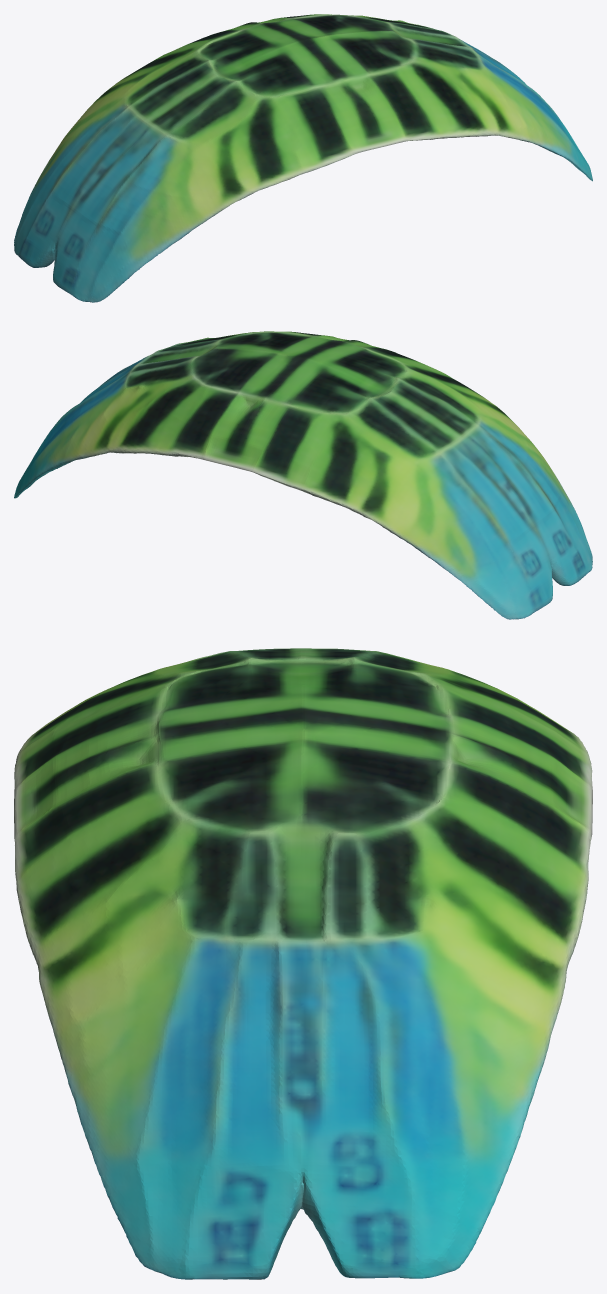
Rendered from mountains-paraglider.glb.
3 views of the same model, one above another, from view 1: azimuth 30°, elevation 25°; view 2: azimuth 150°, elevation 25°; view 3: azimuth 270°, elevation 25° (orthographic). The views are drawn at different scales.
Visible parts, largest first — view 1: world; view 2: world; view 3: world.
Boxes of the visible parts, left/top/right/bottom form: world: left=14, top=14, right=592, bottom=302; world: left=14, top=331, right=592, bottom=619; world: left=14, top=648, right=592, bottom=1279.
Size of the model in its own units: 0.9985 by 0.3196 by 0.5074.
